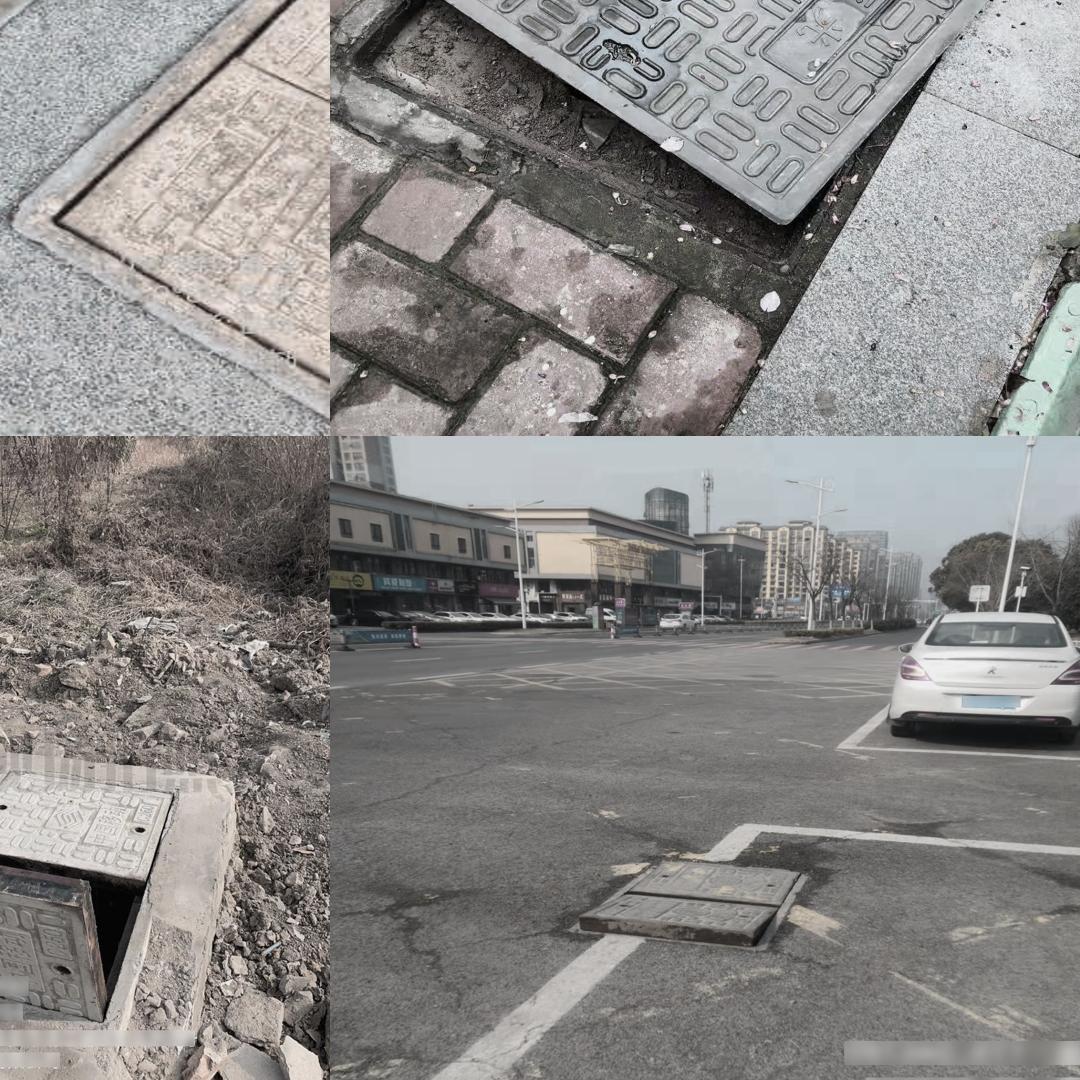uncovered: (334, 0, 1049, 270), (0, 750, 183, 1080), (0, 0, 221, 150), (568, 859, 806, 954)
